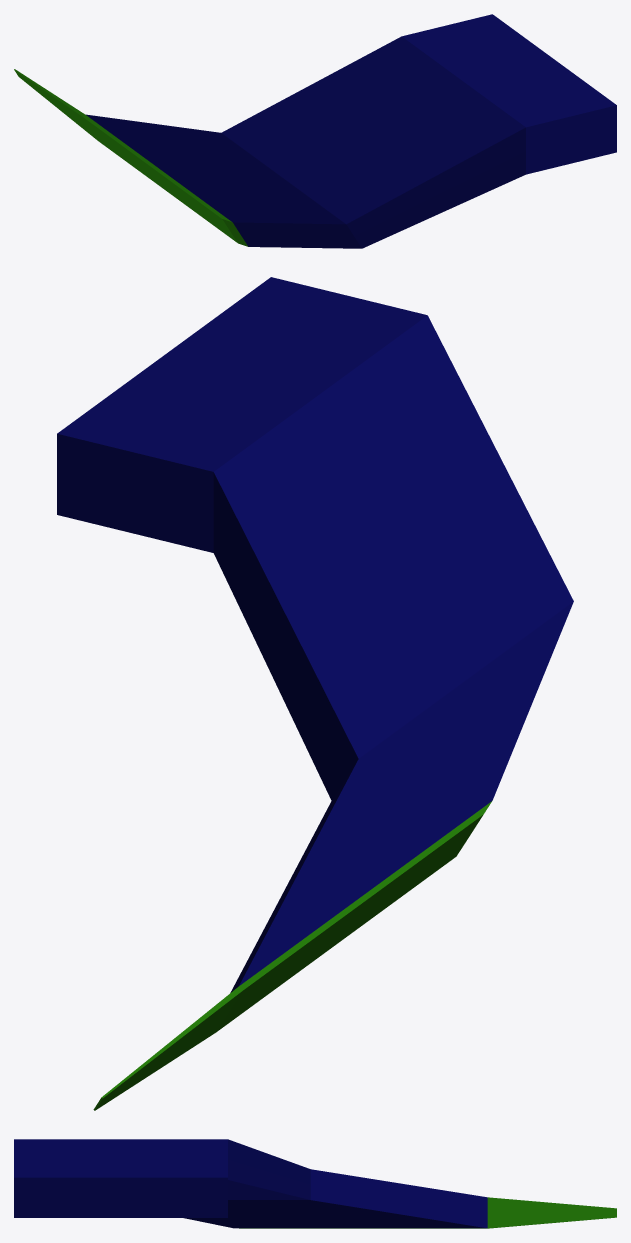
File: Fusion_FinL_Part_Wipeout.fbx
The picture shows the model from 3 angles, top to bottom: view 1: azimuth 30°, elevation 25°; view 2: azimuth 150°, elevation 25°; view 3: azimuth 270°, elevation 25°; orthographic projection. The views are drawn at different scales.
Parts seen in each view (by area): view 1: Fusion_FinL; view 2: Fusion_FinL; view 3: Fusion_FinL.
Boxes of the visible parts, <box> form: Fusion_FinL: <box>14,14,616,248</box>; Fusion_FinL: <box>57,277,573,1110</box>; Fusion_FinL: <box>14,1139,616,1228</box>.
Bounding box in the file's own units: 241 × 563 × 158.
